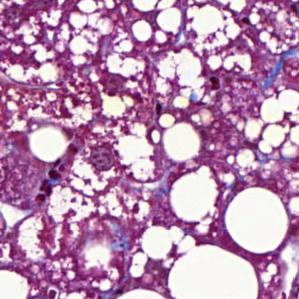steatosis: (225, 191, 294, 250), (30, 129, 72, 163)
